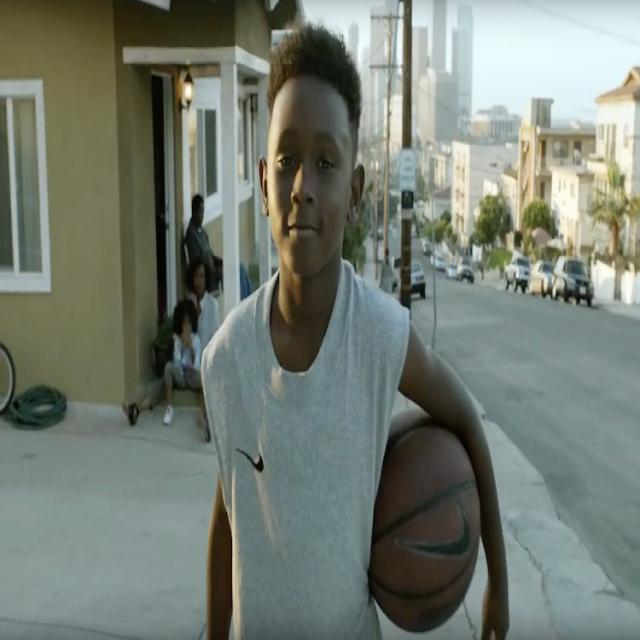nike: (391, 503, 482, 583), (228, 441, 272, 487)
